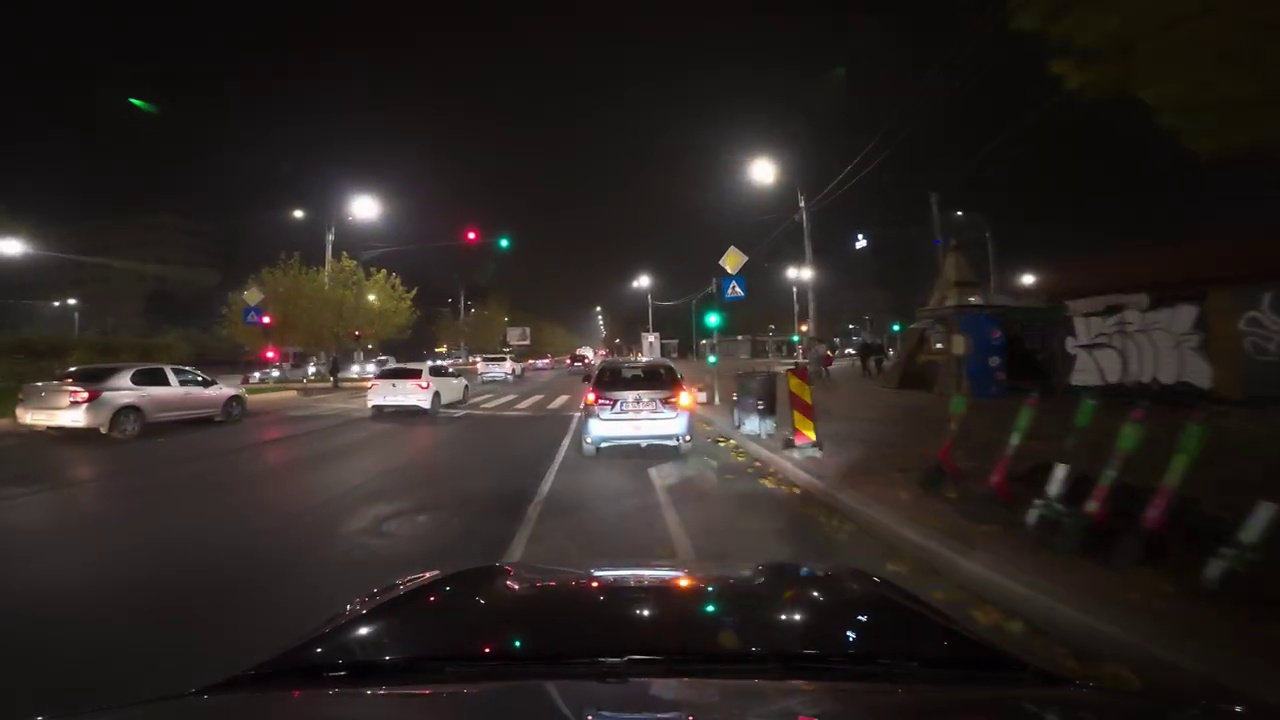acesa: (746, 156, 780, 188), (348, 192, 382, 222), (0, 234, 32, 262), (787, 264, 816, 286), (628, 269, 653, 294), (721, 247, 746, 272), (461, 224, 481, 248), (287, 204, 309, 225)
